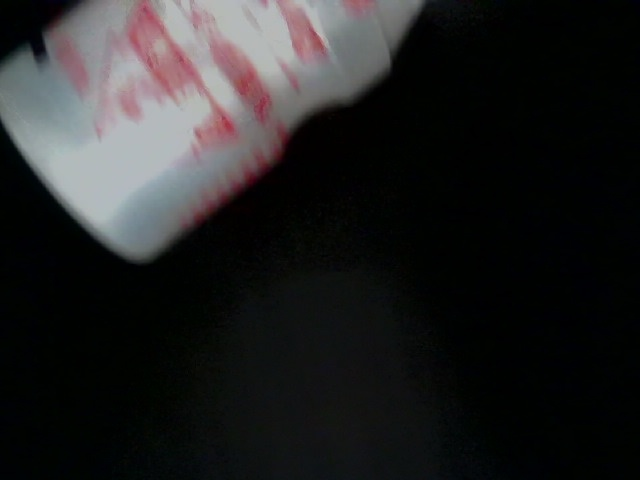CYLJ: (212, 178, 312, 287)
